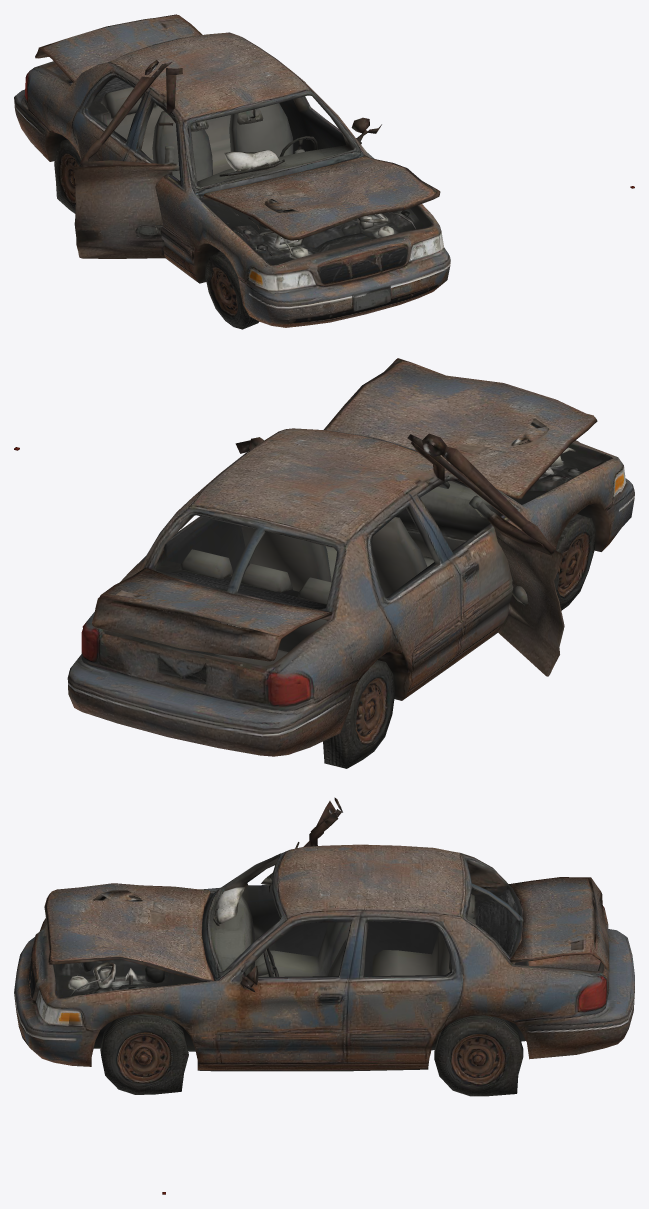
3 views of the same model, one above another, from view 1: azimuth 30°, elevation 25°; view 2: azimuth 150°, elevation 25°; view 3: azimuth 270°, elevation 25° (orthographic). The views are drawn at different scales.
Parts seen in each view (by area): view 1: tripo_node_0d024753-18a2-49ee-a9c2-54c4400b68ad; view 2: tripo_node_0d024753-18a2-49ee-a9c2-54c4400b68ad; view 3: tripo_node_0d024753-18a2-49ee-a9c2-54c4400b68ad.
Boxes of the visible parts, <box> form: tripo_node_0d024753-18a2-49ee-a9c2-54c4400b68ad: <box>14,14,634,329</box>; tripo_node_0d024753-18a2-49ee-a9c2-54c4400b68ad: <box>14,358,634,768</box>; tripo_node_0d024753-18a2-49ee-a9c2-54c4400b68ad: <box>14,797,634,1194</box>.
Bounding box in the file's own units: 0.998 × 0.3809 × 0.998.
Materials: 1 (1 with a texture image).
